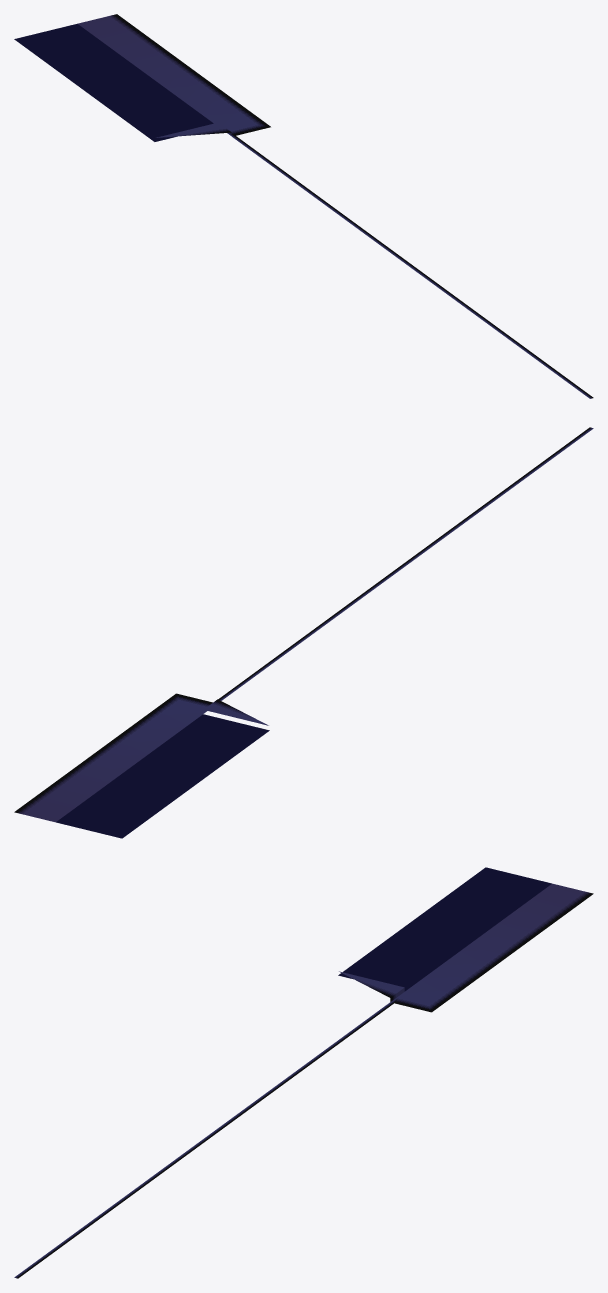
The picture shows the model from 3 angles, top to bottom: view 1: azimuth 30°, elevation 25°; view 2: azimuth 150°, elevation 25°; view 3: azimuth 330°, elevation 25°; orthographic projection. The views are drawn at different scales.
Parts seen in each view (by area): view 1: Joint_0_Object_0; view 2: Joint_0_Object_0; view 3: Joint_0_Object_0.
Part boxes in pixels (box(x1,y1,x2,y2)): Joint_0_Object_0: box(14, 14, 593, 398); Joint_0_Object_0: box(14, 427, 593, 838); Joint_0_Object_0: box(14, 867, 593, 1278).
Bounding box in the file's own units: 650 × 25 × 5600.
Materials: 1 (1 with a texture image).
